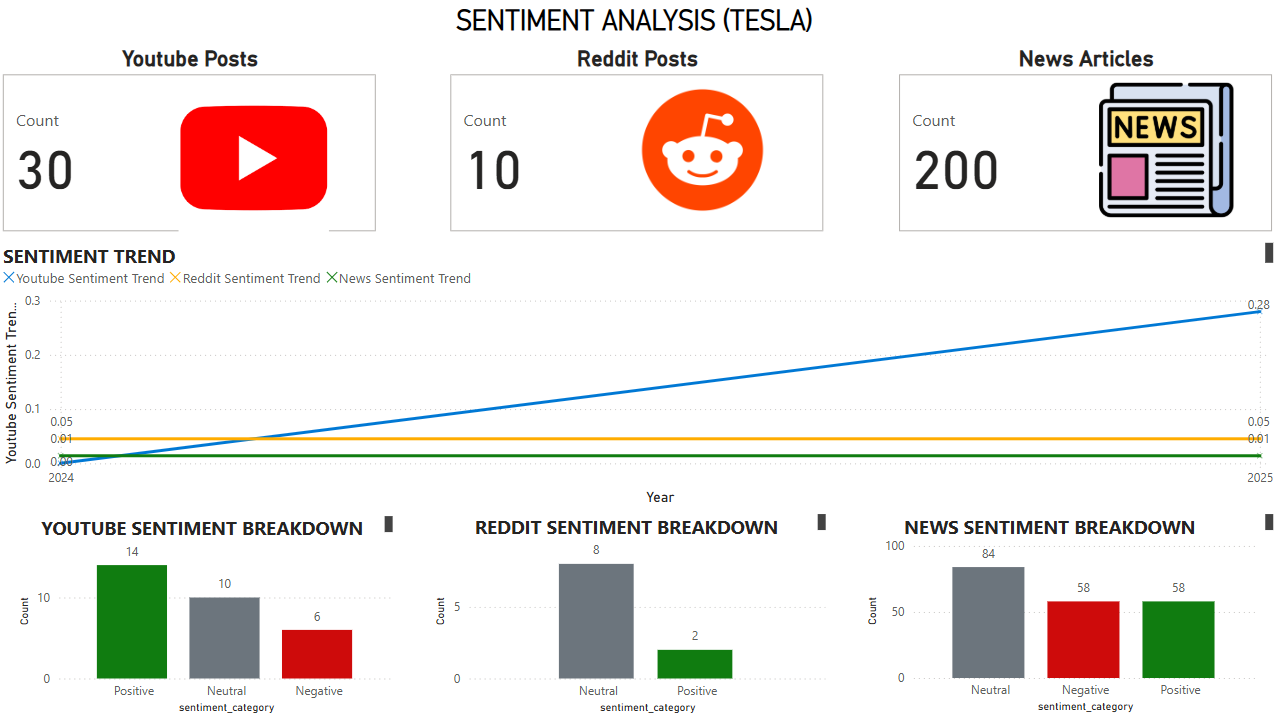

What the dashboard file says about the page in this screenshot:
{"tool":"powerbi","page":{"name":"Overview Dashboard","canvas":[1280,720],"ordinal":0},"visuals":[{"type":"cardVisual","title":"Youtube Posts","fields":{"Data":["CountNonNull(public youtube_data.id)"]},"box":[0,48,384,192],"z":0},{"type":"cardVisual","title":"News Articles","fields":{"Data":["CountNonNull(public news_data.id)"]},"box":[896,48,384,192],"z":1000},{"type":"cardVisual","title":"Reddit Posts","fields":{"Data":["CountNonNull(public reddit_data.id)"]},"box":[448,48,384,192],"z":2000},{"type":"image","box":[144,80,224,160],"z":3000},{"type":"image","box":[592,80,224,144],"z":4000},{"type":"image","box":[1056,80,224,144],"z":5000},{"type":"lineChart","fields":{"Category":["public youtube_data.published_at.Variation.Date Hierarchy.Year","public youtube_data.published_at.Variation.Date Hierarchy.Quarter","public youtube_data.published_at.Variation.Date Hierarchy.Month","public youtube_data.published_at.Variation.Date Hierarchy.Day","public reddit_data.created_at.Variation.Date Hierarchy.Year","public reddit_data.created_at.Variation.Date Hierarchy.Quarter","public reddit_data.created_at.Variation.Date Hierarchy.Month","public reddit_data.created_at.Variation.Date Hierarchy.Day","public news_data.published_at.Variation.Date Hierarchy.Year","public news_data.published_at.Variation.Date Hierarchy.Quarter","public news_data.published_at.Variation.Date Hierarchy.Month","public news_data.published_at.Variation.Date Hierarchy.Day"],"Y":["Avg(public youtube_data.sentiment_score)","Avg(public reddit_data.sentiment_score)","Avg(public news_data.sentiment_score)"]},"box":[0,240,1280,272],"z":6000},{"type":"columnChart","fields":{"Category":["public youtube_data.sentiment_category"],"Y":["CountNonNull(public youtube_data.id)"]},"box":[16,512,384,208],"z":7000},{"type":"columnChart","fields":{"Category":["public reddit_data.sentiment_category"],"Y":["CountNonNull(public reddit_data.id)"]},"box":[432,512,400,208],"z":8000},{"type":"columnChart","fields":{"Category":["public news_data.sentiment_category"],"Y":["CountNonNull(public news_data.id)"]},"box":[863.8,512.5,400,207.5],"z":9000},{"type":"textbox","box":[0,0,1280,48],"z":10000},{"type":"textbox","box":[0,240,1280,32],"z":11000},{"type":"textbox","box":[16.2,512.5,383.8,30],"z":12000},{"type":"textbox","box":[432.5,511.2,400,30],"z":12001},{"type":"textbox","box":[831.2,511.2,448.8,30],"z":12002}]}

Visuals, with their boxes in screenshot pixels (x1, y1, x2, y2), scaled from the page's 1280x720 canvas onto the 1278x713 screenshot:
"Youtube Posts" cardVisual: 0 48 383 238
"News Articles" cardVisual: 895 48 1277 238
"Reddit Posts" cardVisual: 447 48 831 238
image: 144 79 367 238
image: 591 79 815 222
image: 1054 79 1277 222
lineChart - public youtube_data.published_at.Variation.Date Hierarchy.Year x public youtube_data.published_at.Variation.Date Hierarchy.Quarter: 0 238 1277 507
columnChart - public youtube_data.sentiment_category x CountNonNull(public youtube_data.id): 16 507 399 712
columnChart - public reddit_data.sentiment_category x CountNonNull(public reddit_data.id): 431 507 831 712
columnChart - public news_data.sentiment_category x CountNonNull(public news_data.id): 862 508 1262 712
textbox: 0 0 1277 48
textbox: 0 238 1277 269
textbox: 16 508 399 537
textbox: 432 506 831 536
textbox: 830 506 1277 536
